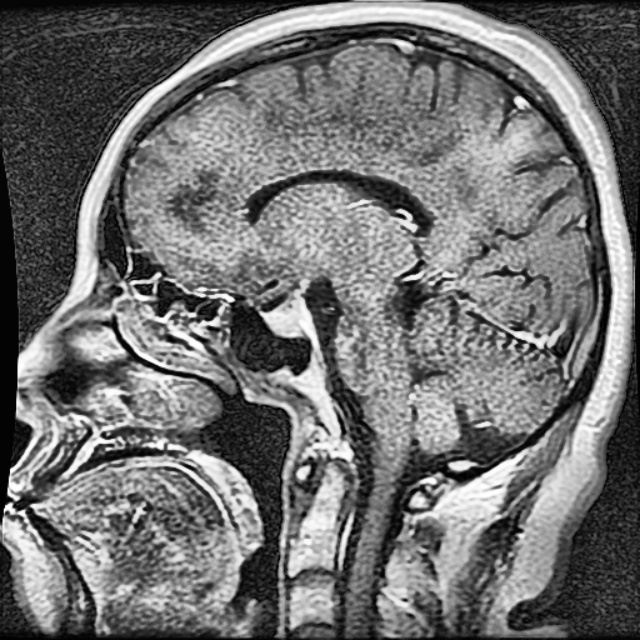Pituitary: (267, 294, 315, 338)
